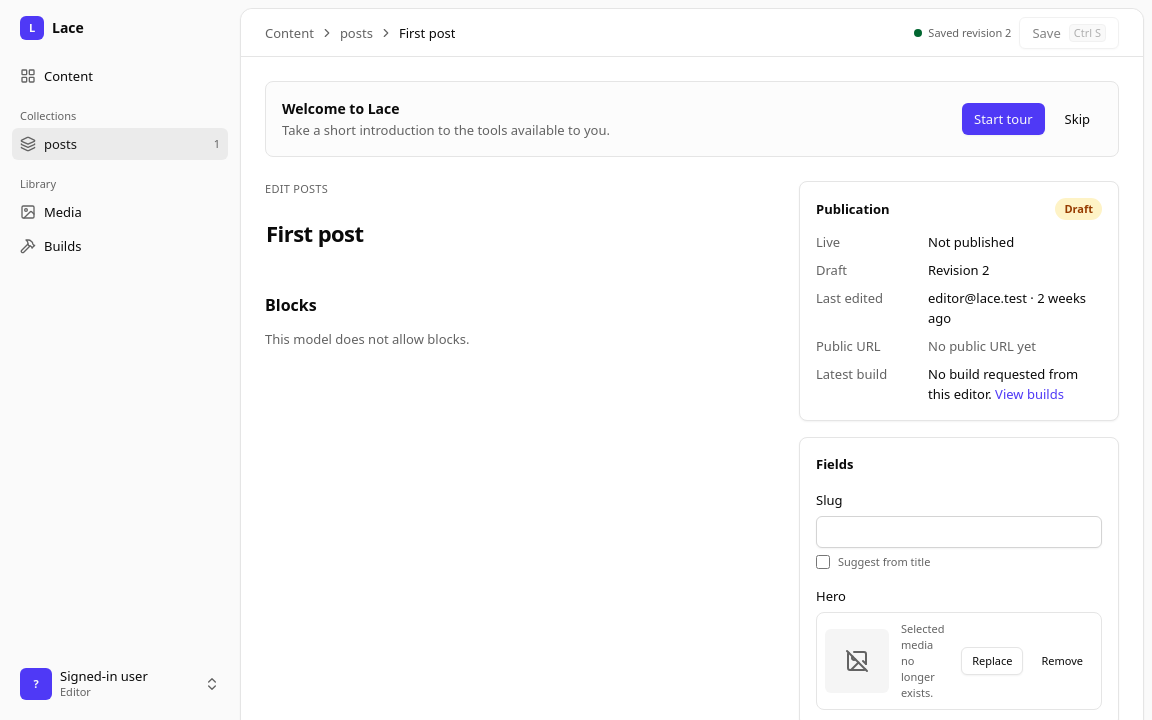
Test: a missing selection is kept until it is replaced or removed
This screenshot has width=1152, height=720.
expect the text "Selected media no longer exists." is shown: met, box [901,621,949,701]
Click the button with aria-label "Remove media from Hero". click: (1062, 661)
box: [1031,647,1093,675]
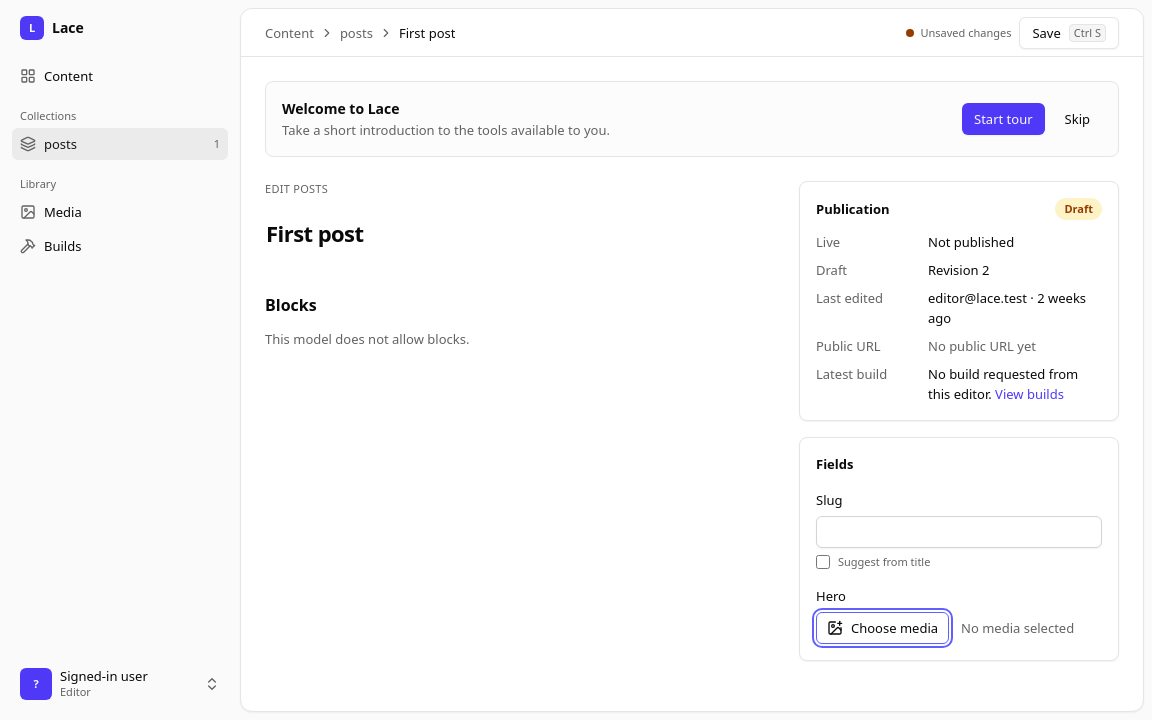
expect the text "No media selected" is shown: met, box [961,618,1074,638]
